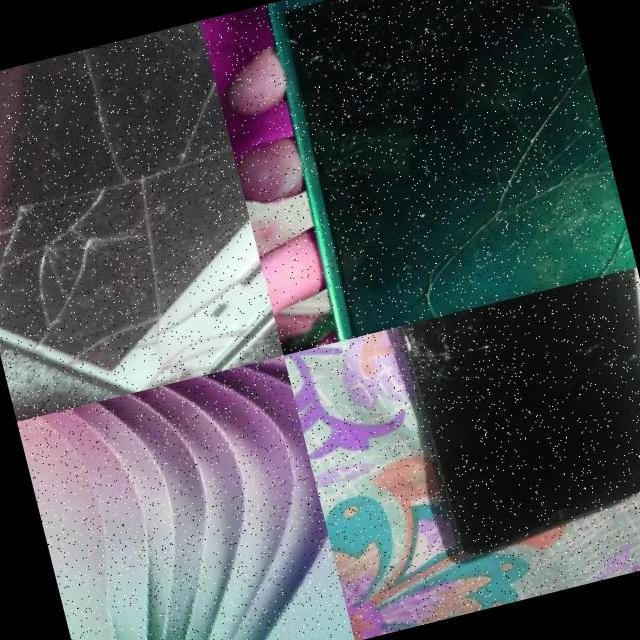screen crack: (0, 20, 282, 421), (339, 116, 637, 332), (338, 295, 548, 440), (437, 0, 574, 45)
